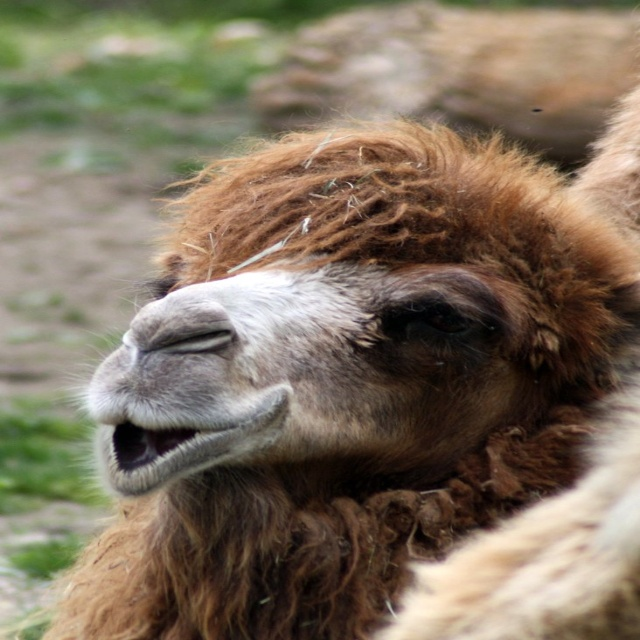Camel: (41, 66, 639, 640)
